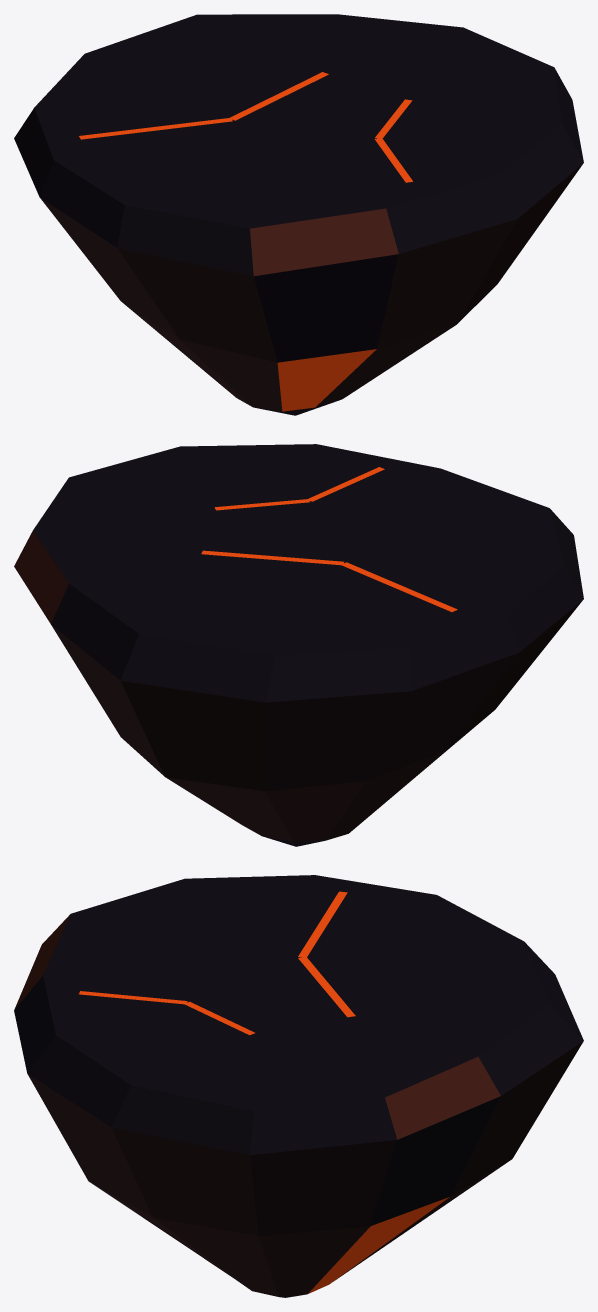
The model's file is obsidian_raft.obj.
The picture shows the model from 3 angles, top to bottom: view 1: azimuth 30°, elevation 25°; view 2: azimuth 150°, elevation 25°; view 3: azimuth 270°, elevation 25°; orthographic projection. The views are drawn at different scales.
Parts seen in each view (by area): view 1: obsidian_raft; view 2: obsidian_raft; view 3: obsidian_raft.
Part boxes in pixels (left/top/right/bottom): obsidian_raft: left=14, top=14, right=583, bottom=415; obsidian_raft: left=14, top=444, right=583, bottom=846; obsidian_raft: left=14, top=875, right=583, bottom=1297.
Bounding box in the file's own units: 7.19 × 4.18 × 6.91.
